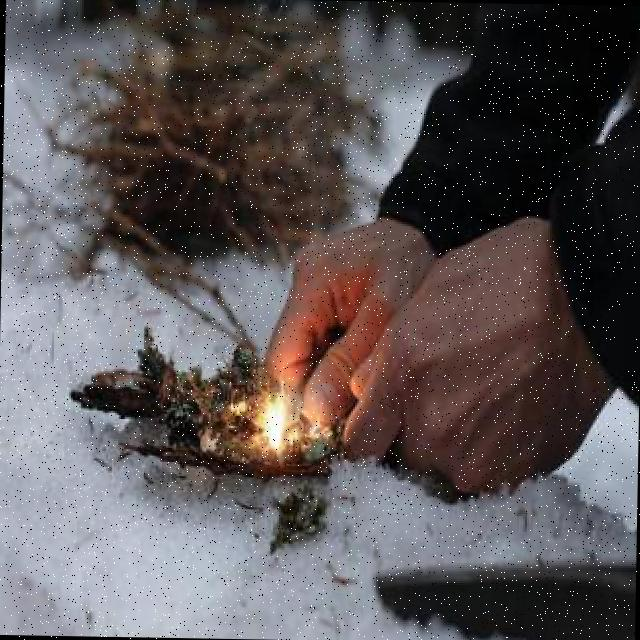fire: (228, 388, 324, 466)
